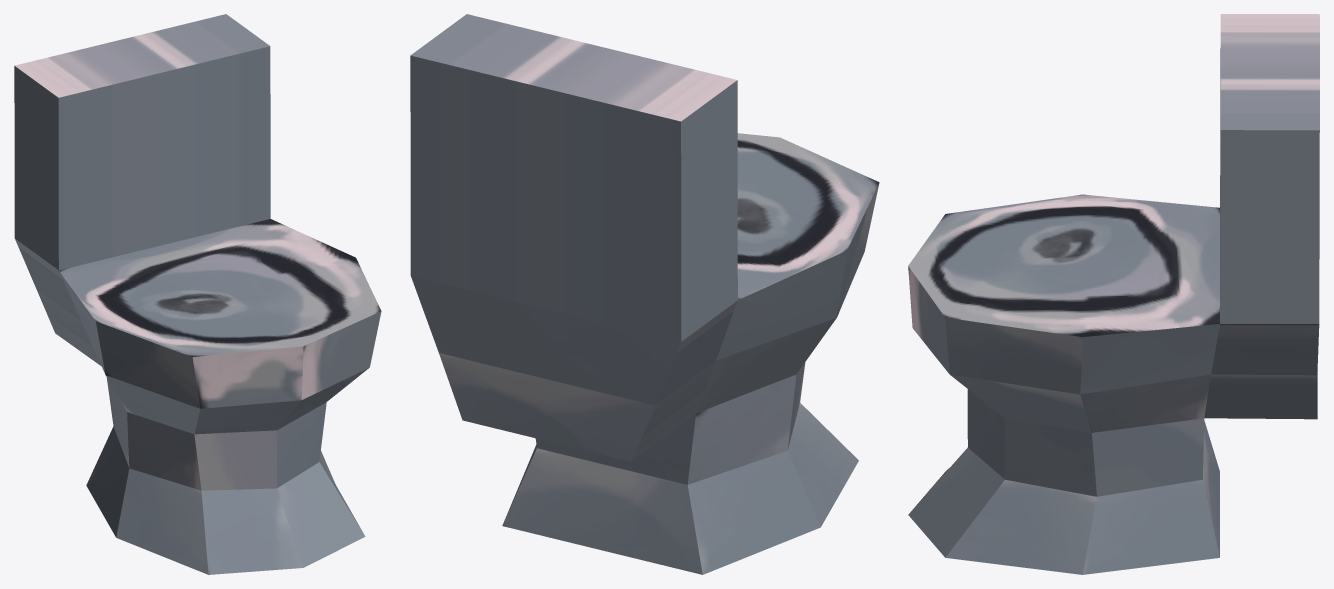
The model's file is toilet.fbx.
3 views of the same model, side by side, from view 1: azimuth 30°, elevation 25°; view 2: azimuth 150°, elevation 25°; view 3: azimuth 270°, elevation 25° (orthographic). The views are drawn at different scales.
Parts seen in each view (by area): view 1: Cube; view 2: Cube; view 3: Cube.
Boxes of the visible parts, left/top/right/bottom form: Cube: left=14, top=14, right=381, bottom=574; Cube: left=410, top=14, right=879, bottom=574; Cube: left=908, top=14, right=1319, bottom=574.
Size of the model in its own units: 286 by 414 by 349.
